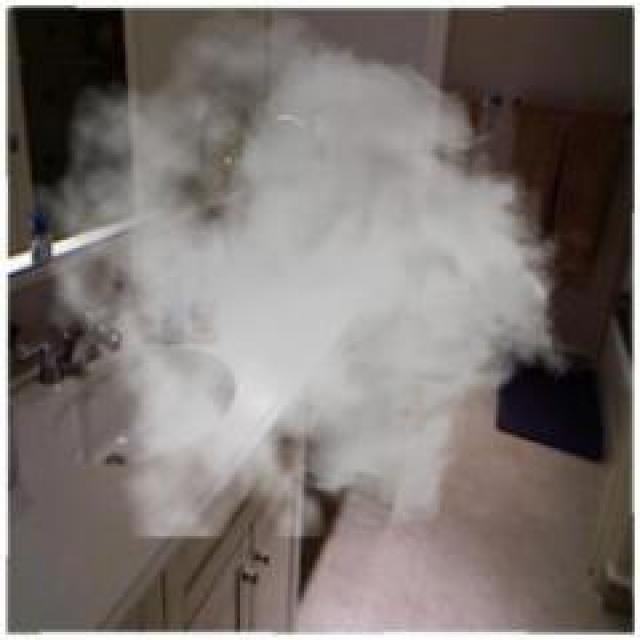Smoke: (28, 1, 575, 538)
